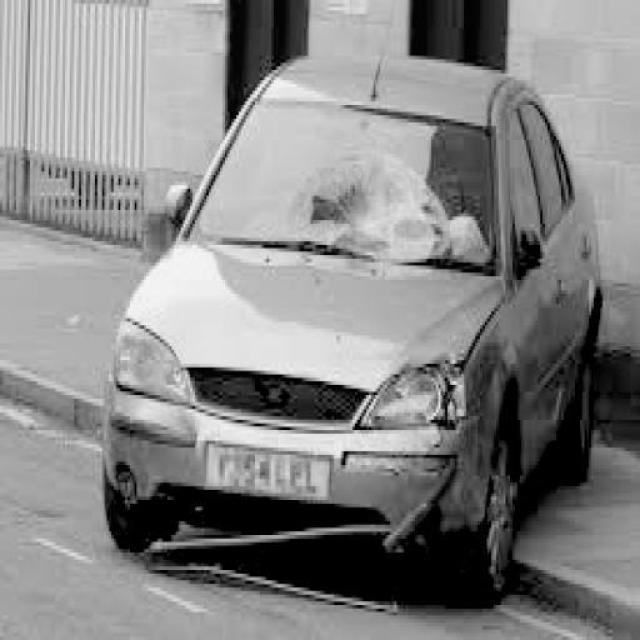car damage: (137, 473, 406, 613), (346, 339, 491, 529), (252, 145, 460, 265)
